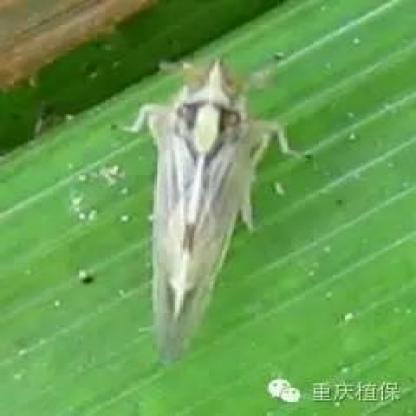brown-planthopper: (138, 59, 263, 361)
